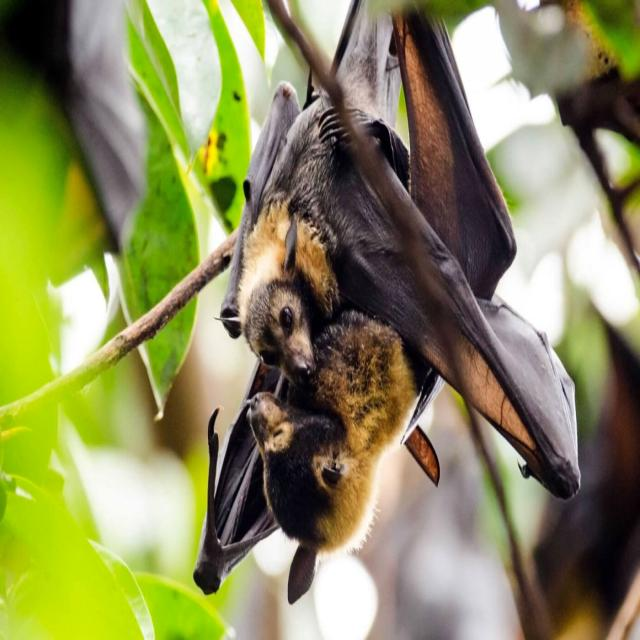bat: (221, 83, 579, 495), (194, 310, 444, 603), (394, 10, 517, 302), (339, 3, 411, 199)
